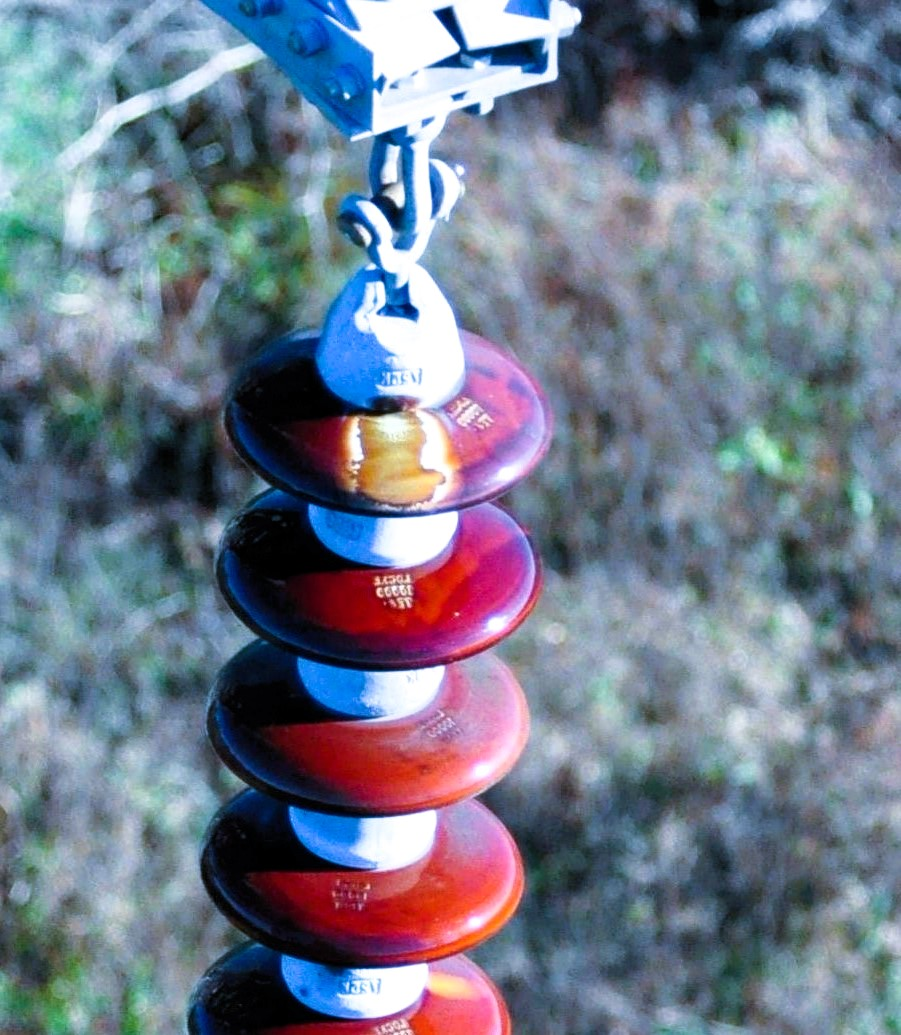Insulator flashover: (215, 315, 566, 518)
